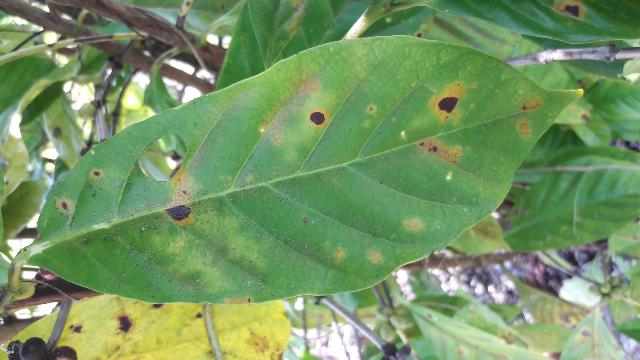red_spider_mite: (17, 40, 565, 303)
